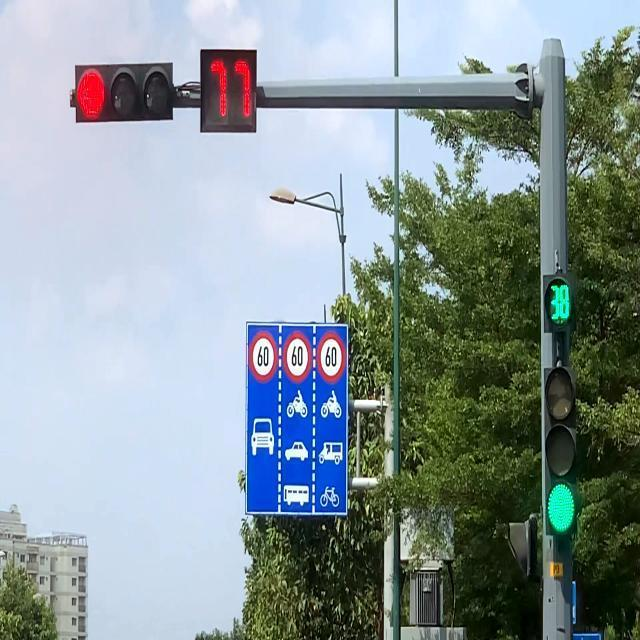127-toc-do-toi-da-60: (320, 329, 349, 377), (248, 334, 280, 376), (285, 330, 312, 376)
